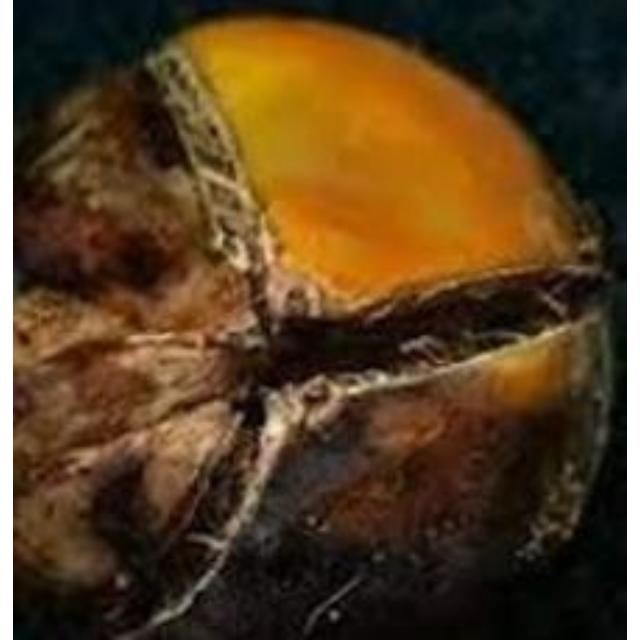damaged: (13, 20, 611, 637)
